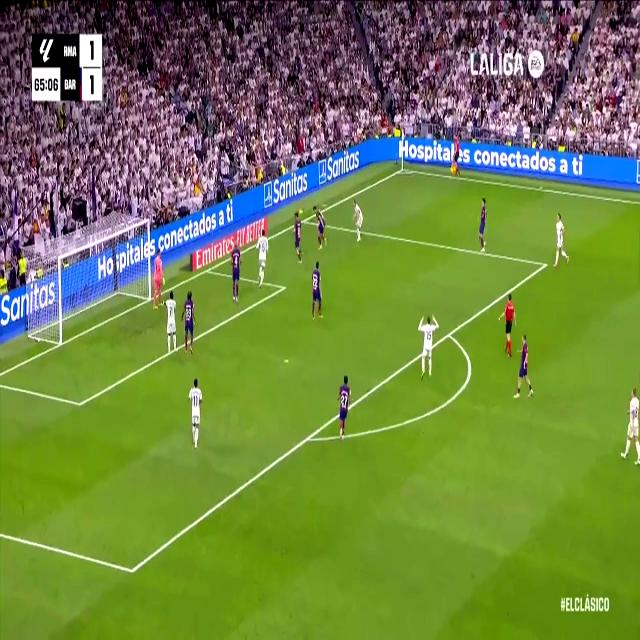bigarea_bottom_inner: (125, 554, 139, 586)
bigarea_top_inner: (540, 253, 550, 274)
bottom_arc_area_intersection: (302, 422, 314, 452)
corner: (397, 163, 408, 175)
smallarea_bottom_inner: (75, 391, 85, 416)
smallarea_top_inner: (279, 279, 287, 295)
smallarea_top_outter: (205, 264, 211, 276)
top_arc_area_intersection: (445, 324, 453, 344)
